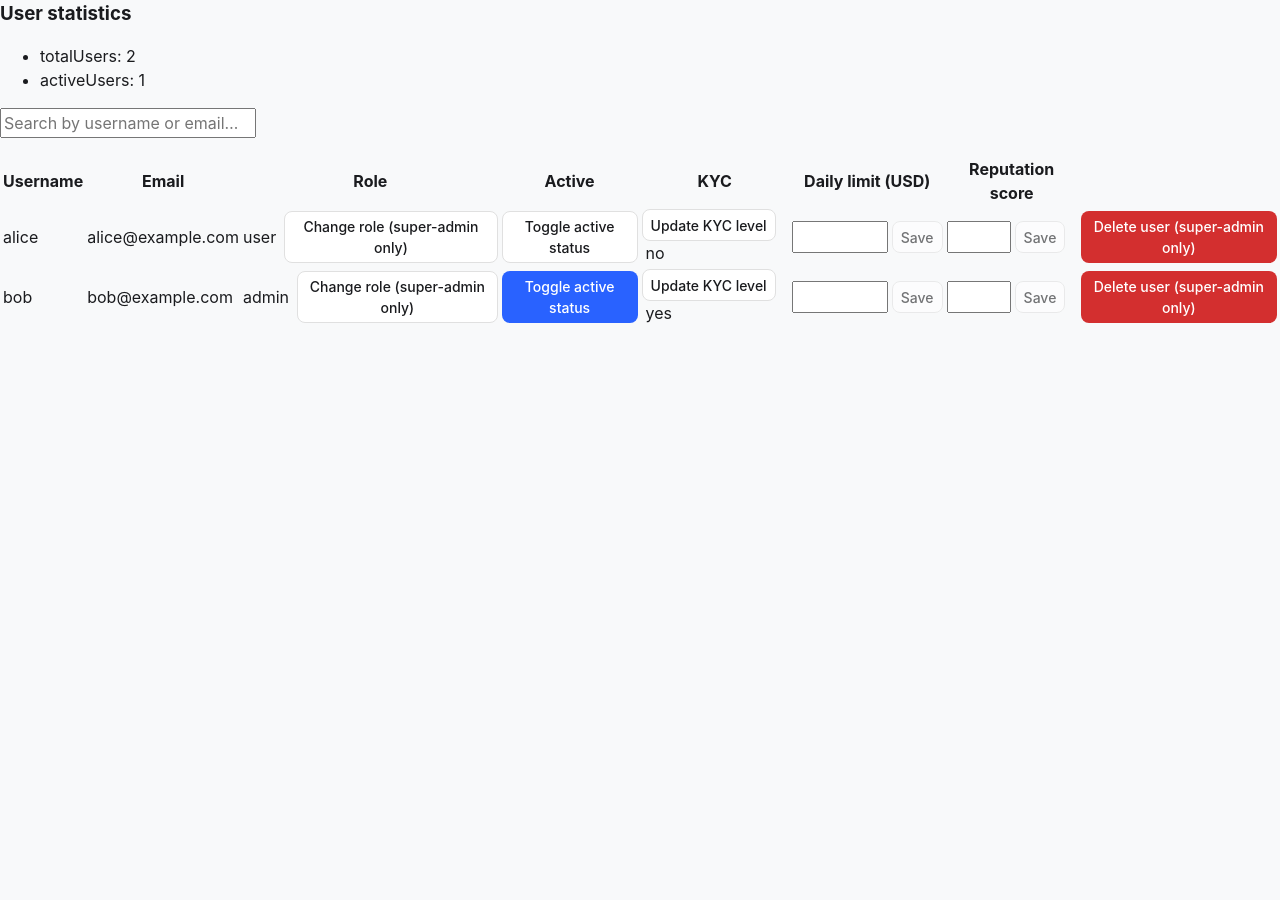
UsersAdmin — super-admin current user › clicking delete opens the confirm Dialog
Step 1. Click the button "Delete user (super-admin only)" in the row of "alice@example.com" → [1179, 237], box x1=1081 y1=211 x2=1277 y2=263
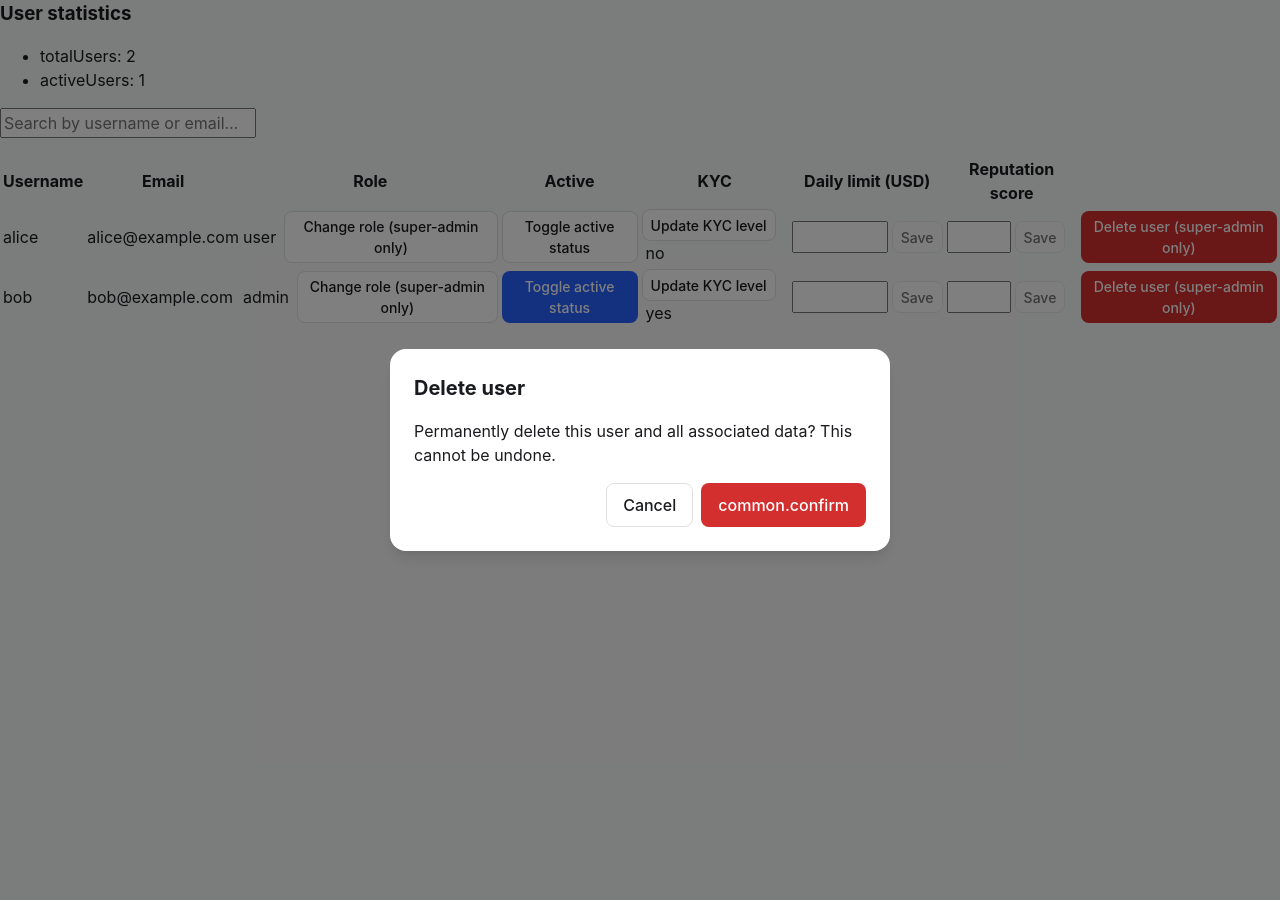
expect the dialog is shown: met, box x1=390 y1=349 x2=890 y2=551
